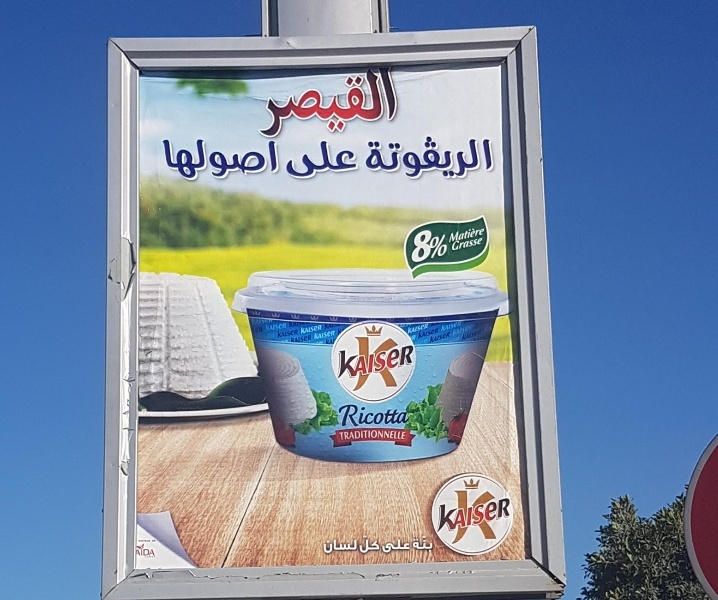text: (273, 61, 288, 139), (289, 61, 304, 139), (305, 61, 320, 139), (321, 61, 336, 139), (337, 61, 352, 139), (353, 61, 368, 139), (369, 61, 384, 139), (385, 61, 399, 139), (353, 337, 368, 394), (369, 337, 384, 394), (465, 490, 480, 546), (481, 490, 496, 546), (385, 337, 399, 394), (452, 490, 464, 546), (369, 135, 384, 179), (385, 135, 400, 179), (401, 135, 416, 179), (417, 135, 432, 179), (433, 135, 448, 179), (449, 135, 464, 179), (465, 135, 480, 179), (449, 492, 464, 536), (465, 492, 480, 536), (481, 492, 496, 536), (497, 492, 512, 536), (177, 137, 192, 180), (193, 137, 208, 180), (209, 137, 224, 180), (225, 137, 240, 180), (241, 137, 256, 180), (257, 137, 272, 180), (434, 492, 448, 536), (162, 137, 176, 180), (289, 141, 304, 180), (305, 141, 320, 180), (321, 141, 336, 180), (337, 141, 352, 180), (481, 135, 494, 179), (265, 61, 272, 139), (417, 229, 432, 264), (433, 229, 448, 264), (353, 345, 368, 380), (369, 345, 384, 380), (385, 345, 400, 380), (401, 345, 414, 380), (341, 345, 352, 380), (353, 403, 368, 427), (369, 403, 384, 427), (385, 403, 400, 427), (339, 403, 352, 427), (401, 403, 414, 427), (273, 137, 280, 180), (449, 226, 464, 245), (465, 226, 480, 245), (465, 325, 480, 343), (417, 536, 432, 553), (337, 538, 352, 555), (481, 325, 495, 343), (385, 539, 400, 555), (369, 535, 381, 555), (322, 538, 336, 555), (465, 237, 480, 252), (452, 325, 464, 343), (451, 237, 464, 252), (433, 331, 448, 344), (353, 429, 368, 441), (369, 429, 384, 441), (385, 429, 400, 441), (359, 535, 368, 555), (419, 327, 432, 340), (338, 429, 352, 441), (449, 320, 463, 332), (305, 324, 320, 335), (321, 330, 336, 341), (401, 539, 411, 555), (353, 141, 357, 180), (290, 334, 304, 345), (273, 322, 288, 332), (417, 323, 429, 335), (453, 324, 464, 337), (321, 337, 336, 346), (465, 324, 475, 337), (257, 319, 272, 327), (353, 538, 360, 555), (289, 321, 305, 328), (278, 329, 288, 340), (289, 329, 299, 340), (407, 323, 416, 335), (433, 327, 441, 340), (145, 548, 156, 557), (305, 334, 314, 345), (401, 429, 409, 441), (481, 226, 486, 245), (366, 135, 368, 179), (513, 492, 515, 536), (325, 323, 336, 331), (441, 320, 448, 332), (257, 325, 265, 335), (286, 141, 288, 180), (136, 548, 144, 557), (337, 323, 346, 331), (414, 229, 416, 264), (449, 229, 451, 264), (265, 322, 272, 332), (314, 330, 320, 341), (249, 319, 256, 327), (497, 490, 498, 546), (413, 536, 416, 553), (251, 325, 256, 335), (410, 334, 416, 342), (481, 237, 484, 252), (315, 337, 320, 346), (300, 324, 304, 335), (429, 331, 432, 344), (433, 536, 435, 553), (449, 331, 451, 344), (321, 324, 323, 335), (383, 539, 384, 555), (337, 337, 338, 346), (273, 319, 274, 327), (417, 334, 418, 342)
